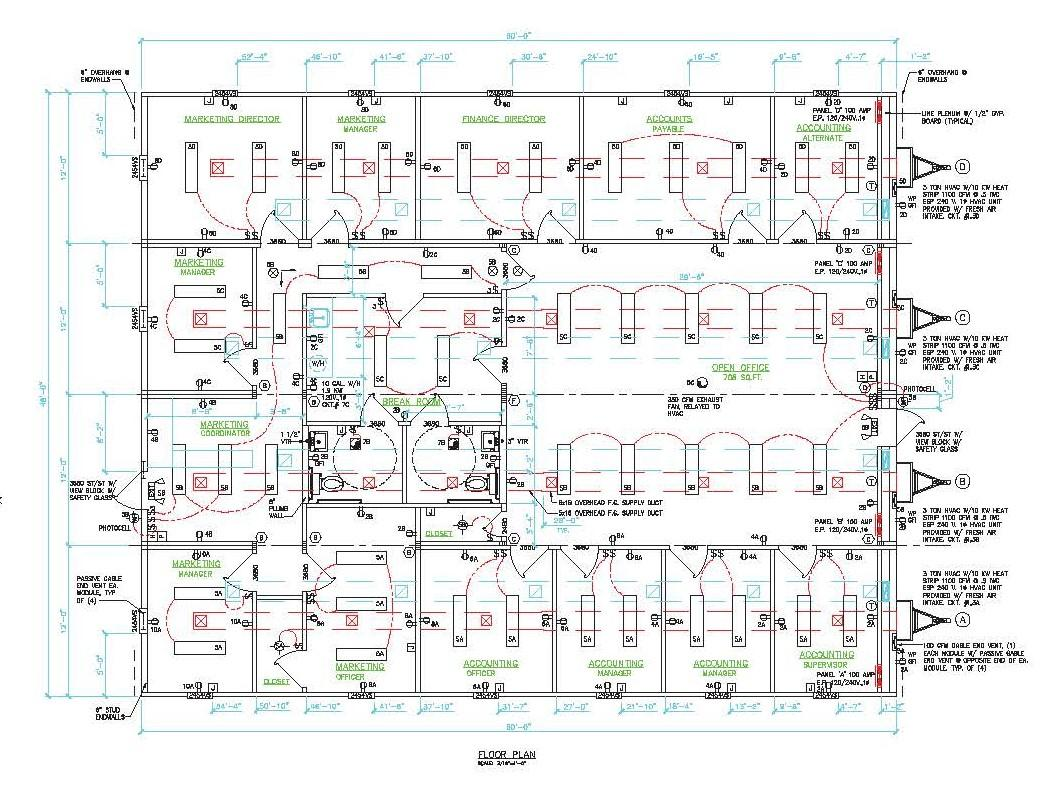room: (504, 247, 884, 544), (582, 94, 774, 241), (303, 295, 504, 424), (144, 393, 305, 545), (419, 94, 582, 243), (144, 94, 304, 242), (418, 547, 555, 695), (304, 94, 418, 243), (143, 546, 254, 696), (144, 243, 254, 393), (772, 547, 882, 694), (554, 547, 663, 694), (663, 548, 772, 694), (773, 96, 879, 242), (404, 421, 505, 507), (303, 422, 405, 505)
